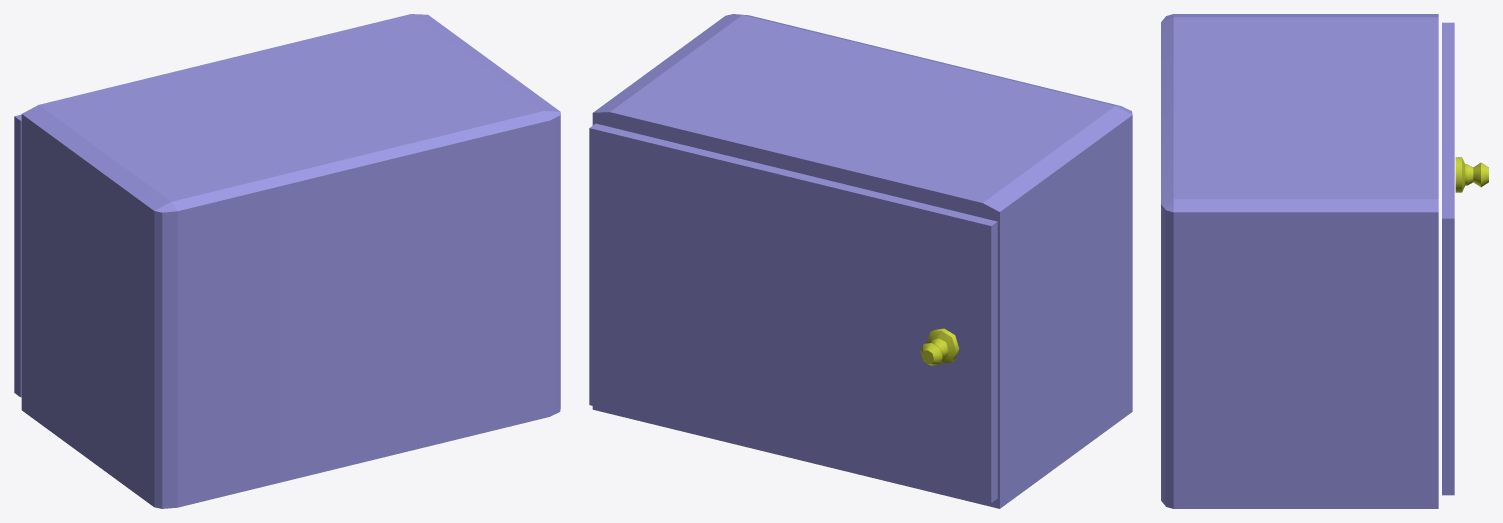
The model's file is Prop_closet7.FBX.
The picture shows the model from 3 angles, left to right: view 1: azimuth 30°, elevation 25°; view 2: azimuth 150°, elevation 25°; view 3: azimuth 270°, elevation 25°; orthographic projection.
Visible parts, largest first — view 1: Prop_closet020, Prop_closet021; view 2: Prop_closet021, Prop_closet020, ModuleE_doorhandlep_066; view 3: Prop_closet020, Prop_closet021, ModuleE_doorhandlep_066.
Part boxes in pixels (bbox=[...]): Prop_closet020: bbox=[21, 14, 560, 508]; Prop_closet021: bbox=[14, 114, 21, 397]; Prop_closet021: bbox=[589, 123, 997, 502]; Prop_closet020: bbox=[592, 14, 1132, 508]; ModuleE_doorhandlep_066: bbox=[920, 328, 959, 365]; Prop_closet020: bbox=[1161, 14, 1438, 508]; Prop_closet021: bbox=[1442, 22, 1454, 495]; ModuleE_doorhandlep_066: bbox=[1455, 157, 1488, 192].
Size of the model in its own units: 28.14 by 19.65 by 19.93.
